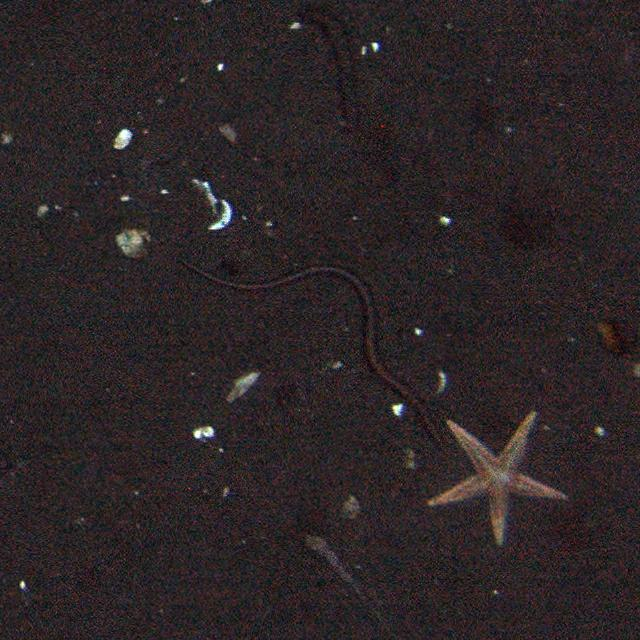eel: (180, 255, 452, 454)
